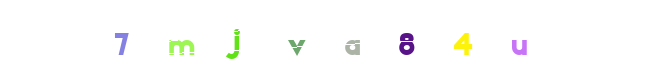4: (366, 0, 446, 80)
7: (147, 0, 227, 80)
8: (295, 0, 375, 80)
A: (293, 0, 373, 80)
J: (256, 0, 336, 80)
M: (195, 0, 275, 80)
U: (424, 0, 504, 80)
V: (293, 0, 373, 80)
